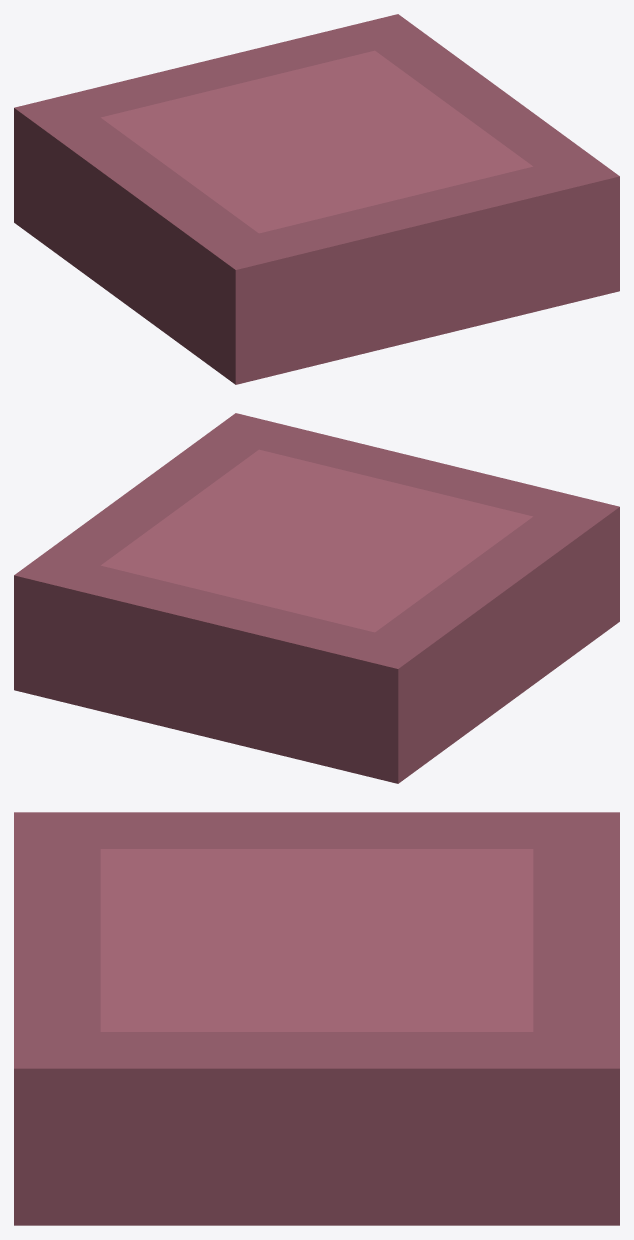
The model's file is libro_01.glb.
3 renders of one model, top to bottom at view 1: azimuth 30°, elevation 25°; view 2: azimuth 150°, elevation 25°; view 3: azimuth 270°, elevation 25°, orthographic. The views are drawn at different scales.
Visible parts, largest first — view 1: libro; view 2: libro; view 3: libro.
Boxes of the visible parts, x1,y1,x2,y2 form: libro: (14, 14, 619, 384); libro: (14, 413, 619, 783); libro: (14, 812, 619, 1225).
Bounding box in the file's own units: 0.7 × 0.2 × 0.7.
